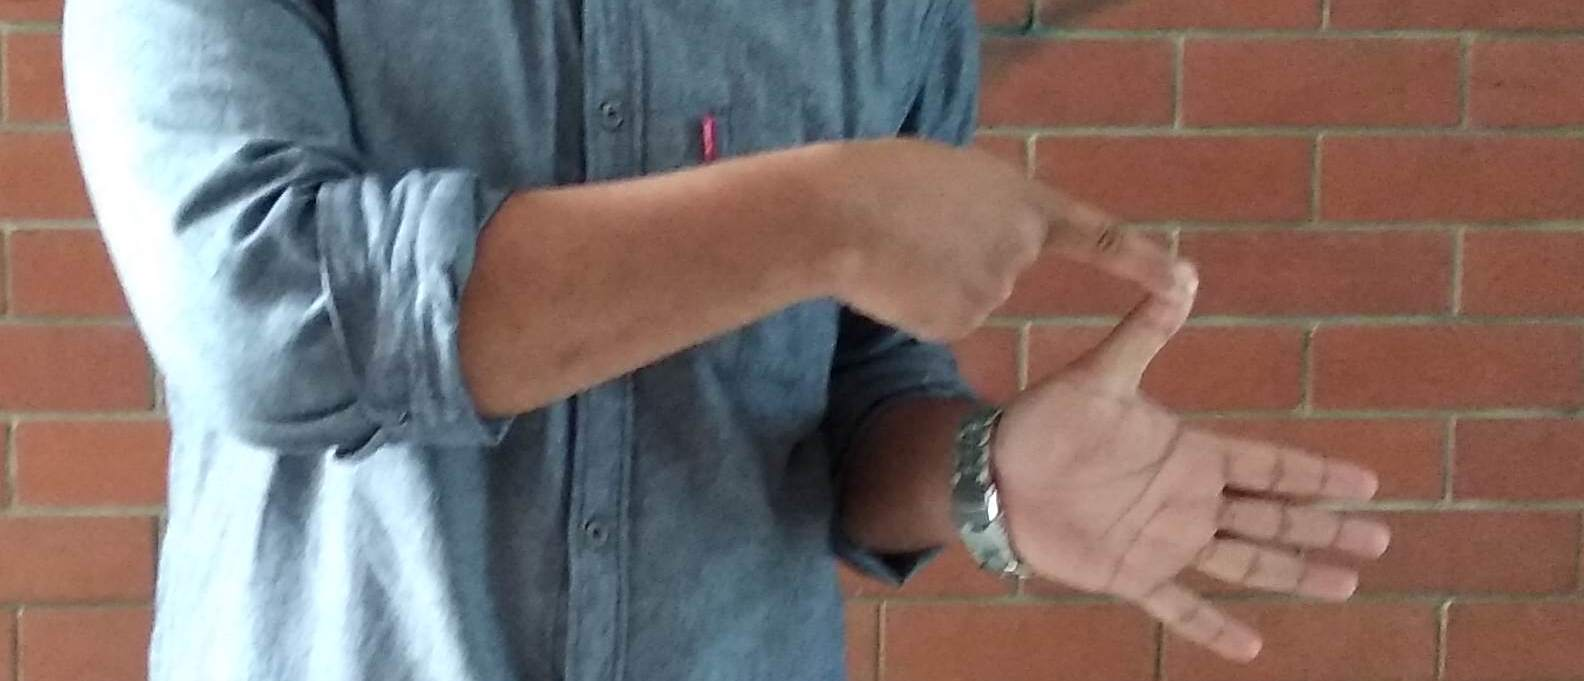a: (870, 159, 1353, 681)
